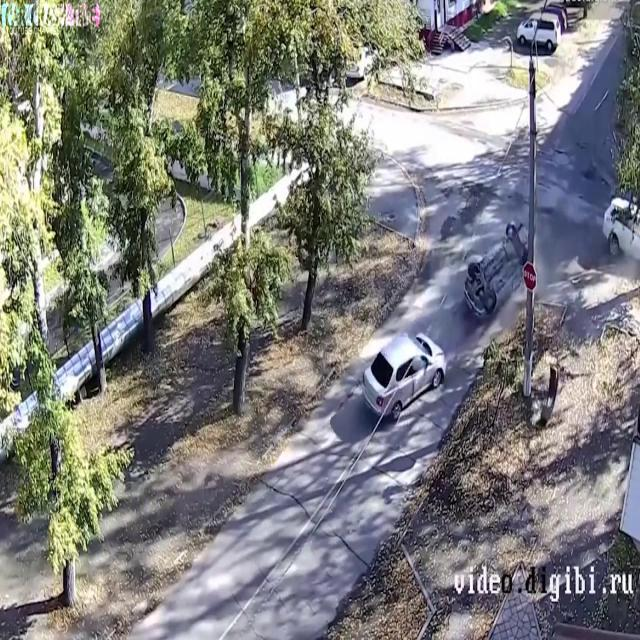accident: (356, 211, 535, 433)
